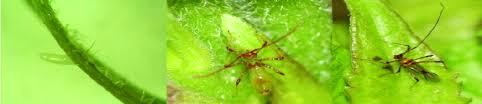Helopeltis-insect: (233, 44, 278, 95), (392, 51, 442, 86)
